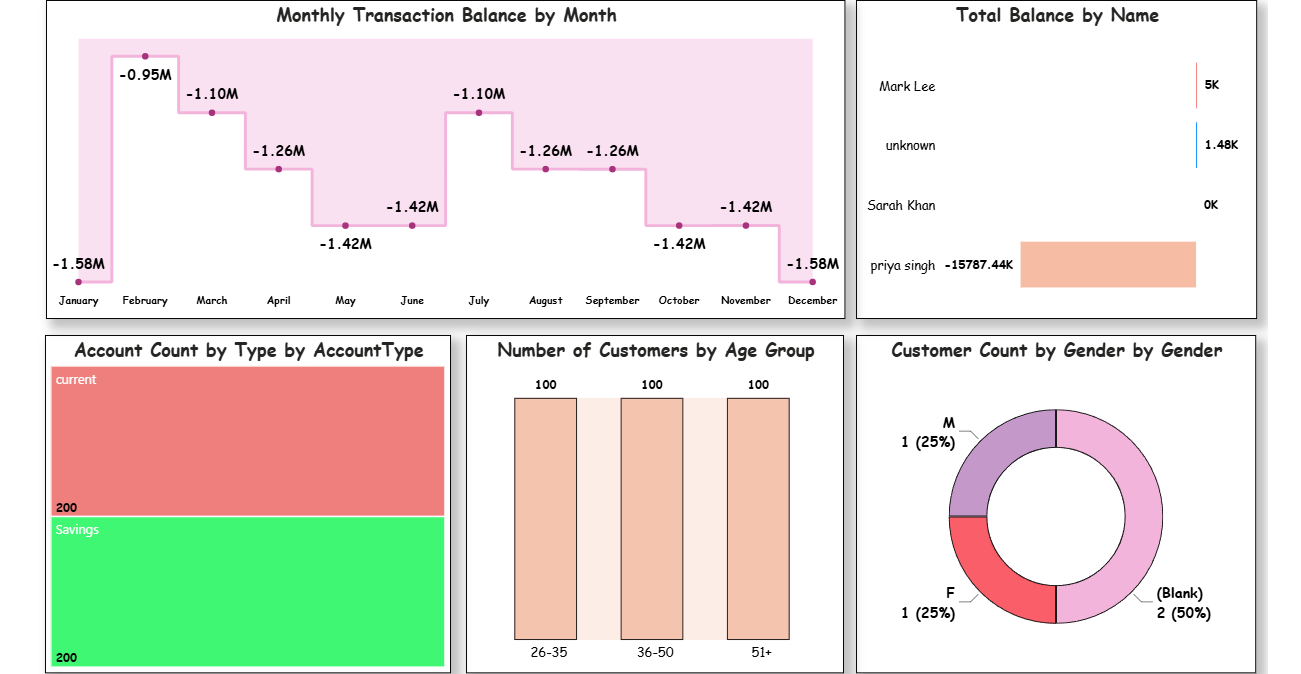

What the dashboard file says about the page in this screenshot:
{"tool":"powerbi","page":{"name":"Page 2","canvas":[1280,720],"ordinal":1},"visuals":[{"type":"donutChart","fields":{"Y":["Measures Table.Customer Count by Gender"],"Category":["CombinedBankingDataset.Gender"]},"box":[852.9,360,413.8,349.5],"z":0},{"type":"columnChart","title":"Number of Customers by Age Group  ","fields":{"Y":["CountNonNull(CombinedBankingDataset.CustomerID)"],"Category":["CombinedBankingDataset.Customer Age Group"]},"box":[449.6,360,391.4,349.5],"z":1},{"type":"treemap","fields":{"Values":["Measures Table.Account Count by Type"],"Details":["CombinedBankingDataset.AccountType"]},"box":[14.9,360,419.8,349.5],"z":2},{"type":"barChart","title":"Total Balance by Name","fields":{"Category":["CombinedBankingDataset.Name"],"Y":["Sum(CombinedBankingDataset.Balance)"]},"box":[852.9,13.4,415.3,330.1],"z":3},{"type":"lineChart","fields":{"Y":["Measures Table.Monthly Transaction Balance"],"Category":["CombinedBankingDataset.TransactionDate.Variation.Date Hierarchy.Month"]},"box":[15.1,13.6,826.7,329.8],"z":4}]}

Visuals, with their boxes in screenshot pixels (x1, y1, x2, y2):
donutChart - Measures Table.Customer Count by Gender x CombinedBankingDataset.Gender: <bbox>850, 335, 1247, 669</bbox>
"Number of Customers by Age Group  " columnChart: <bbox>464, 335, 839, 669</bbox>
treemap - Measures Table.Account Count by Type x CombinedBankingDataset.AccountType: <bbox>48, 335, 450, 669</bbox>
"Total Balance by Name" barChart: <bbox>850, 3, 1248, 319</bbox>
lineChart - Measures Table.Monthly Transaction Balance x CombinedBankingDataset.TransactionDate.Variation.Date Hierarchy.Month: <bbox>48, 3, 840, 319</bbox>
